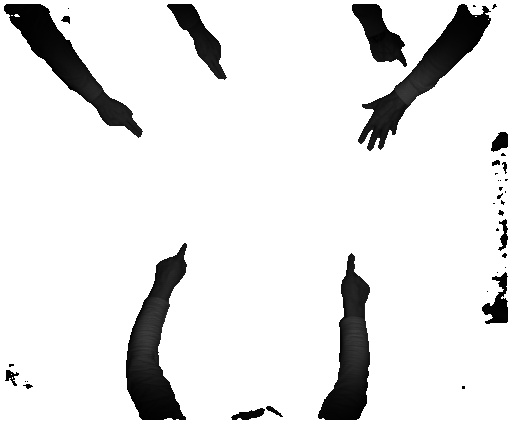hand: (352, 98, 403, 151), (336, 248, 374, 310), (99, 100, 143, 143), (155, 240, 191, 289), (368, 29, 410, 71), (194, 35, 231, 79)
